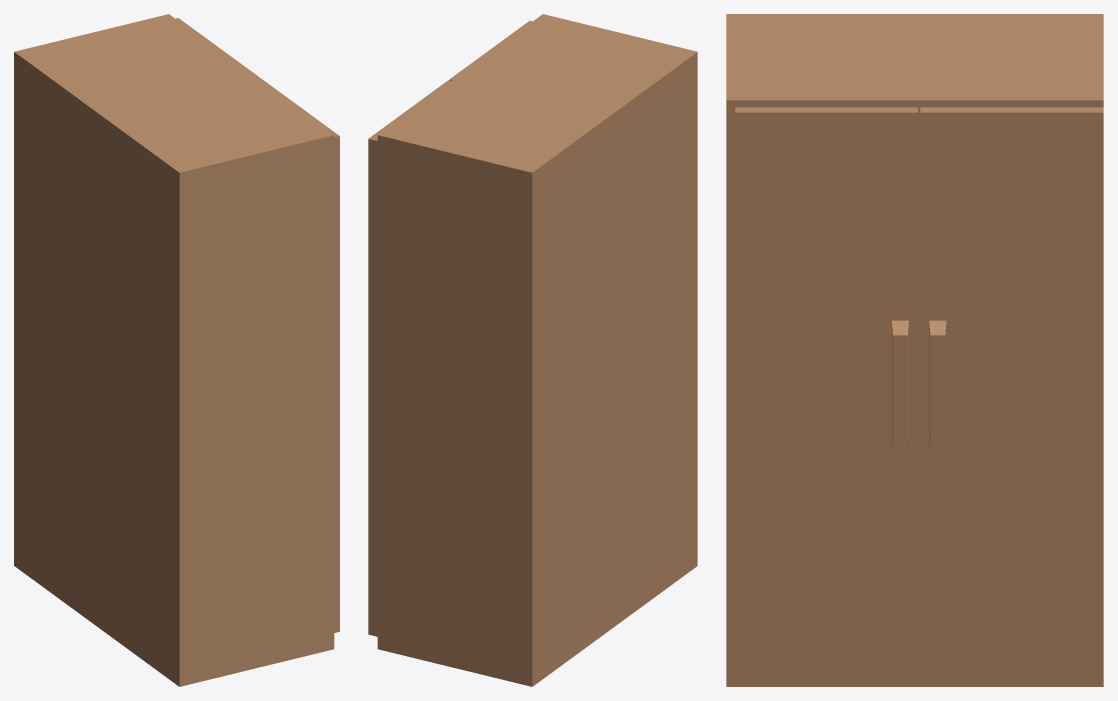
Rendered from Wardrobe.fbx.
The picture shows the model from 3 angles, left to right: view 1: azimuth 30°, elevation 25°; view 2: azimuth 150°, elevation 25°; view 3: azimuth 270°, elevation 25°; orthographic projection. The views are drawn at different scales.
Parts seen in each view (by area): view 1: Wardrobe; view 2: Wardrobe; view 3: Wardrobe.
Boxes of the visible parts, <box> form: Wardrobe: <box>14,14,339,686</box>; Wardrobe: <box>368,14,697,686</box>; Wardrobe: <box>726,14,1103,686</box>.
Bounding box in the file's own units: 2195 × 6143 × 3582.
1 material, 1 textured.
